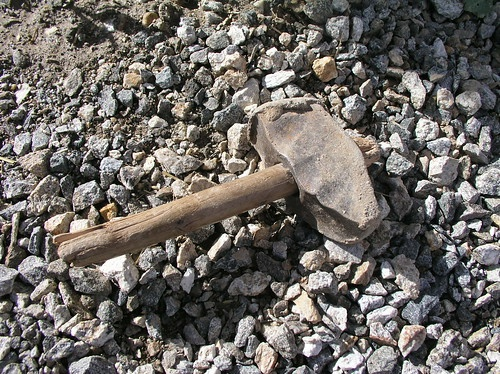hammer: (57, 100, 384, 268)
